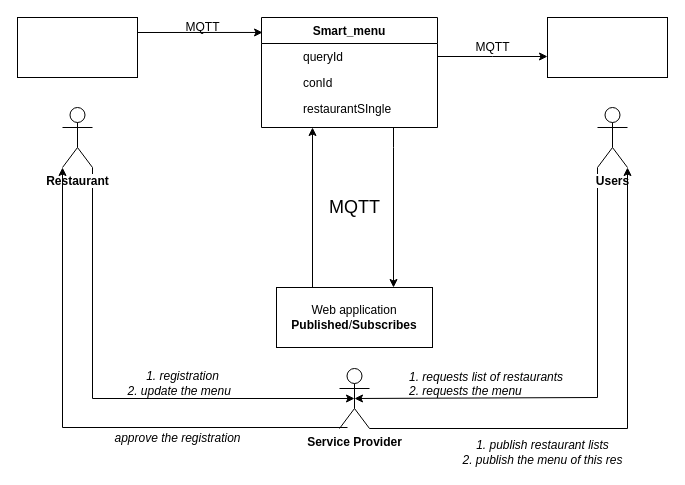
This 685x485 diagram has some shape labels left out. Each missing label, with the box of its shape:
Desktop app Published: (16, 16, 138, 78)
M5 Stack Requests: (546, 16, 668, 78)
